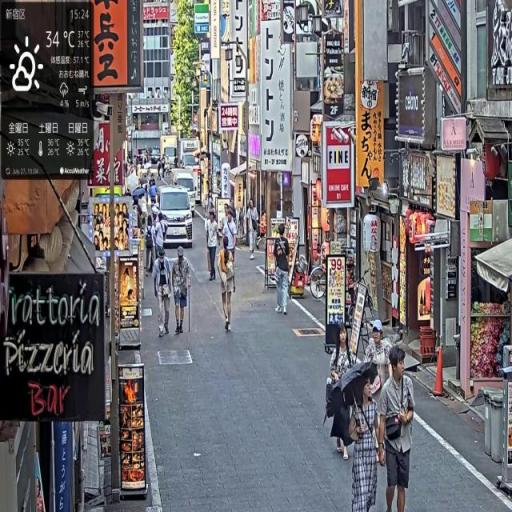person: (380, 343, 417, 512), (346, 371, 385, 512), (326, 324, 356, 464), (172, 247, 195, 336), (154, 244, 175, 337), (219, 243, 237, 334), (207, 210, 220, 282)
